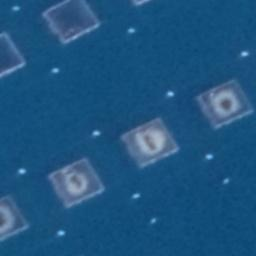square_cover: (42, 148, 106, 216), (114, 113, 185, 172), (196, 74, 255, 138), (41, 1, 103, 49), (1, 193, 31, 245), (1, 28, 30, 77)
